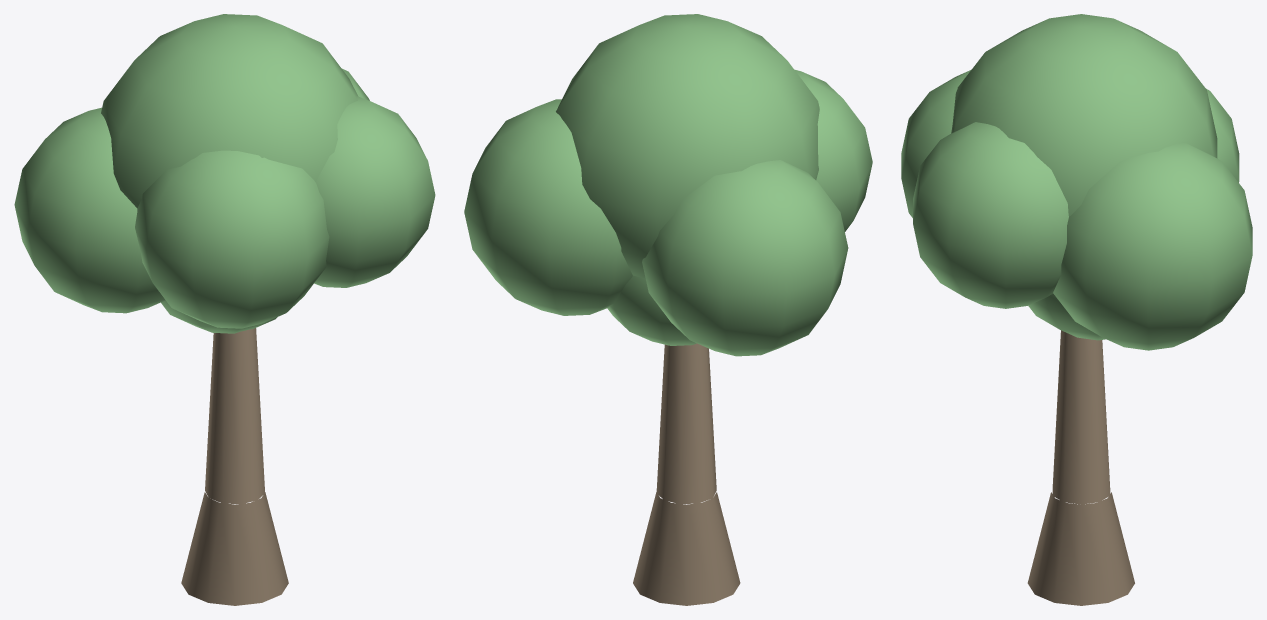
File: tree_hardwood.glb
The picture shows the model from 3 angles, left to right: view 1: azimuth 30°, elevation 25°; view 2: azimuth 150°, elevation 25°; view 3: azimuth 270°, elevation 25°; orthographic projection.
Parts seen in each view (by area): view 1: Canopy_Node, Trunk_Node; view 2: Canopy_Node, Trunk_Node; view 3: Canopy_Node, Trunk_Node.
Boxes of the visible parts, box(x1,y1,x2,y2) form: Canopy_Node: box(14, 14, 435, 333); Trunk_Node: box(181, 328, 288, 605); Canopy_Node: box(464, 14, 872, 356); Trunk_Node: box(633, 343, 740, 605); Canopy_Node: box(901, 14, 1252, 350); Trunk_Node: box(1027, 330, 1134, 605).
Size of the model in its own units: 24.2 by 36.5 by 20.89.
